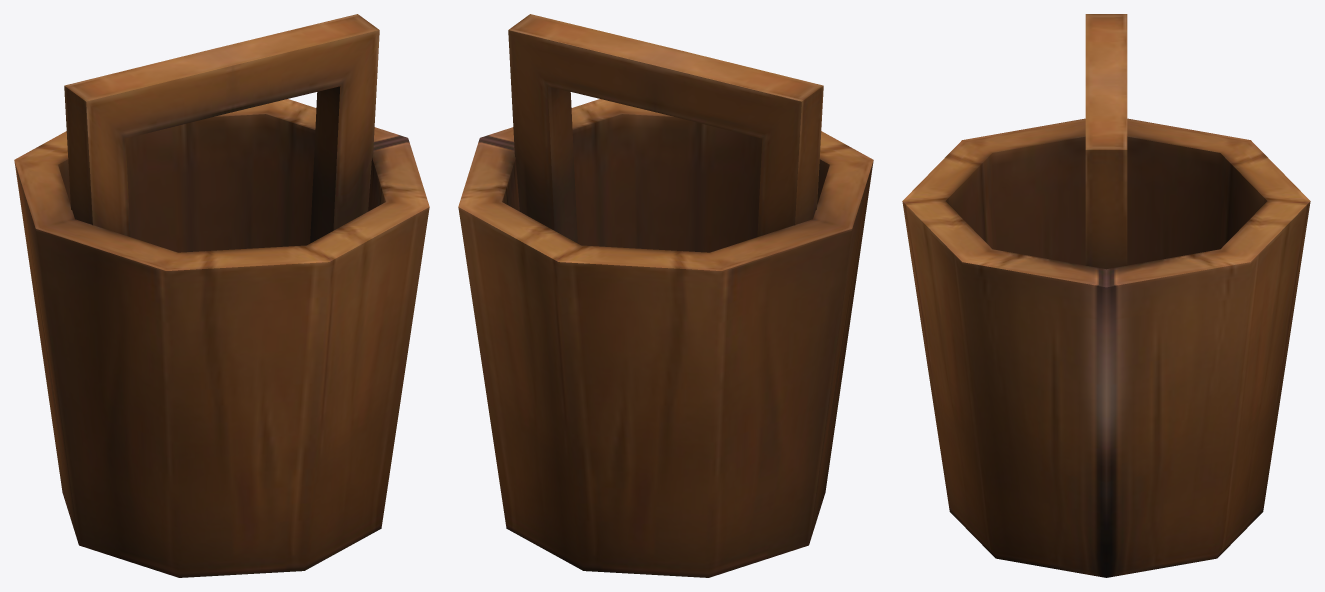
Rendered from mutong.FBX.
3 views of the same model, side by side, from view 1: azimuth 30°, elevation 25°; view 2: azimuth 150°, elevation 25°; view 3: azimuth 270°, elevation 25° (orthographic). The views are drawn at different scales.
Parts seen in each view (by area): view 1: mutong; view 2: mutong; view 3: mutong.
Part boxes in pixels (box(x1,y1,x2,y2)): mutong: box(14, 14, 429, 577); mutong: box(458, 14, 873, 577); mutong: box(902, 14, 1310, 577).
Bounding box in the file's own units: 42.45 × 49.35 × 42.45.
1 material, 1 textured.
